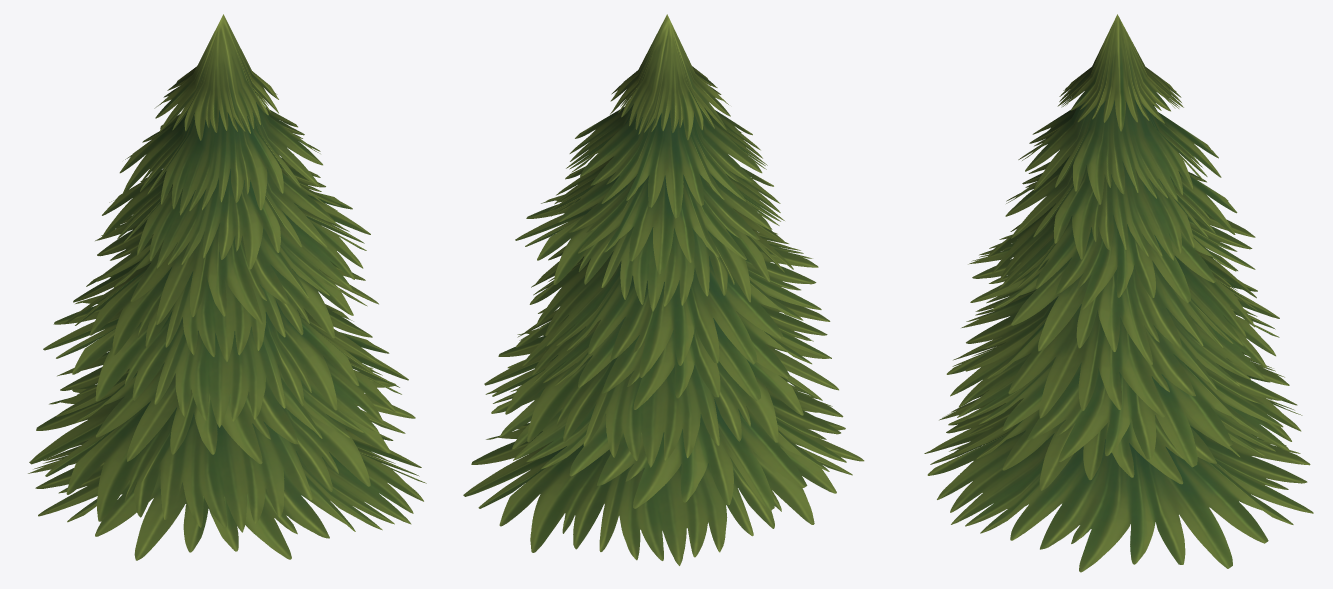
File: Pine Leaves #4 double sided.fbx
3 renders of one model, left to right at view 1: azimuth 30°, elevation 25°; view 2: azimuth 150°, elevation 25°; view 3: azimuth 270°, elevation 25°, orthographic. The views are drawn at different scales.
Visible parts, largest first — view 1: Pine Leaves #005; view 2: Pine Leaves #005; view 3: Pine Leaves #005.
Boxes of the visible parts, x1,y1,x2,y2 form: Pine Leaves #005: (28, 14, 426, 560); Pine Leaves #005: (463, 14, 864, 565); Pine Leaves #005: (924, 14, 1313, 572).
Bounding box in the file's own units: 258 × 334 × 257.
1 material, 1 textured.
